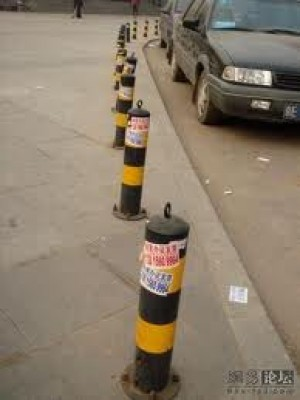bollard: (128, 201, 198, 400), (112, 100, 161, 221)
